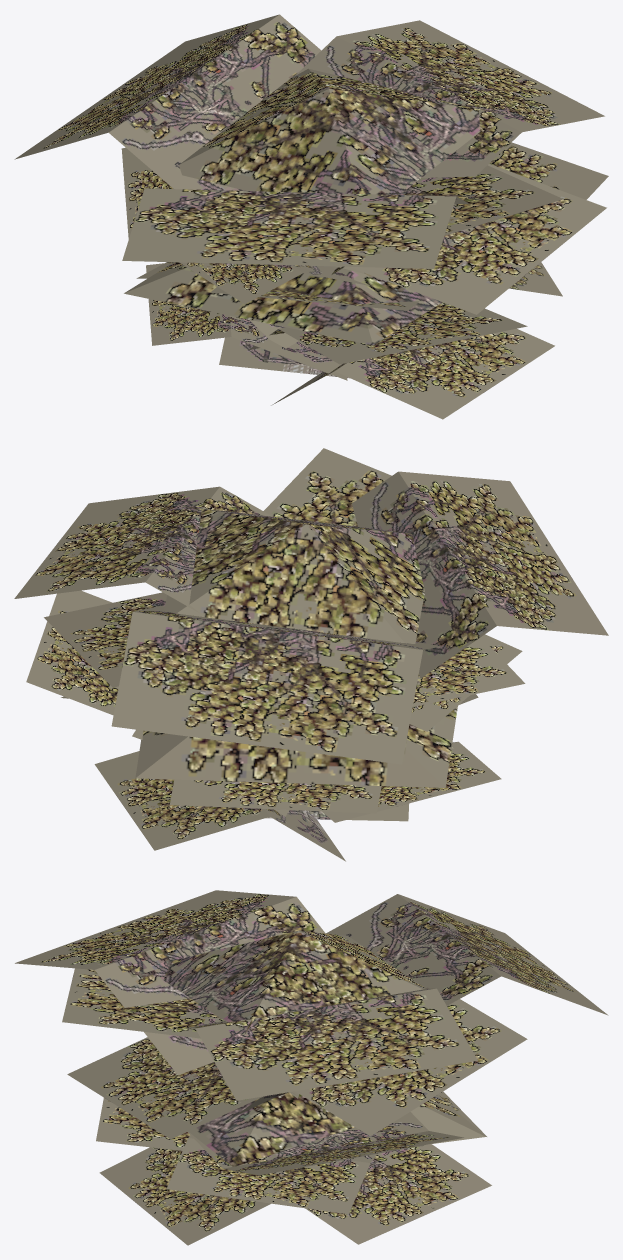
Rendered from flora_tree_bush_mediterranean_dry_v3.glb.
3 renders of one model, top to bottom at view 1: azimuth 30°, elevation 25°; view 2: azimuth 150°, elevation 25°; view 3: azimuth 270°, elevation 25°, orthographic. The views are drawn at different scales.
Visible parts, largest first — view 1: flora_tree_bush_mediterranean_dry_v3_part0; view 2: flora_tree_bush_mediterranean_dry_v3_part0; view 3: flora_tree_bush_mediterranean_dry_v3_part0.
Part boxes in pixels (<box>): flora_tree_bush_mediterranean_dry_v3_part0: <box>14,14,608,419</box>; flora_tree_bush_mediterranean_dry_v3_part0: <box>14,448,608,861</box>; flora_tree_bush_mediterranean_dry_v3_part0: <box>15,890,608,1245</box>.
Size of the model in its own units: 6.54 by 3.48 by 7.07.
1 material, 1 textured.
